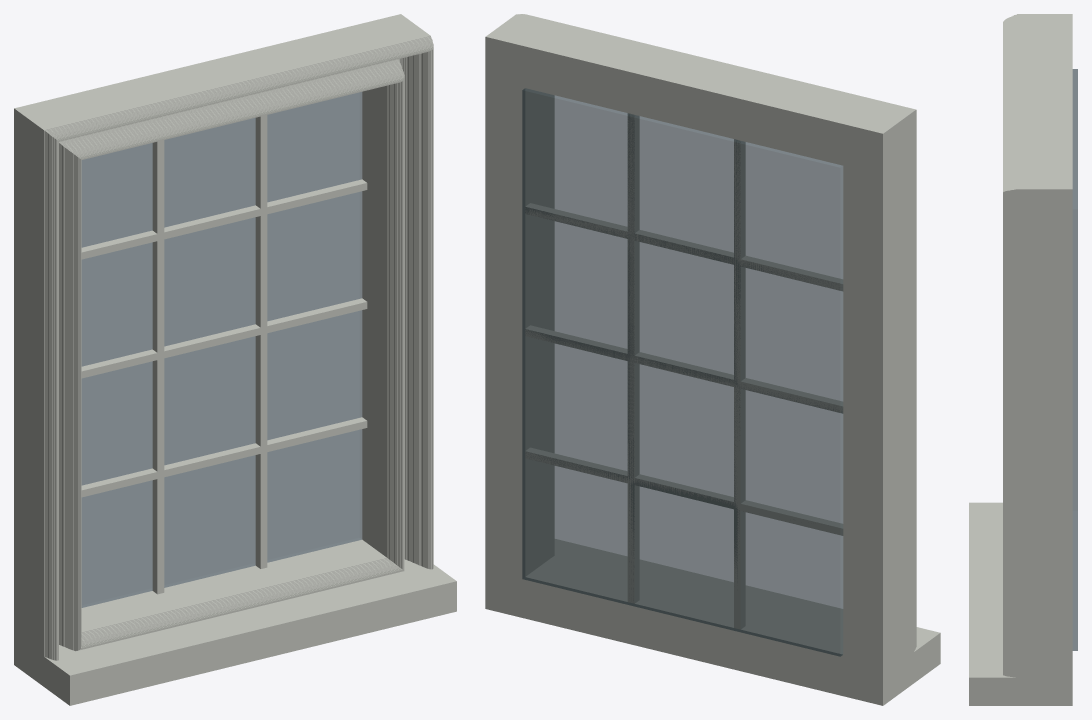
Rendered from barroco_rectangle.glb.
3 renders of one model, left to right at view 1: azimuth 30°, elevation 25°; view 2: azimuth 150°, elevation 25°; view 3: azimuth 270°, elevation 25°, orthographic. The views are drawn at different scales.
Parts seen in each view (by area): view 1: window_glass#0001, window_sill#0001, window_mullion#0001, window_reveal#0001, window_profile#0096, window_profile#0001, window_profile#0015, window_profile#0083, window_profile#0081, window_profile#0095, window_profile#0094, window_profile#0092 (+68 smaller); view 2: window_glass#0001, window_reveal#0001, window_mullion#0001, window_profile#0096, window_profile#0001, window_sill#0001, window_profile#0093, window_profile#0095, window_profile#0094, window_profile#0092, window_profile#0090, window_profile#0089; view 3: window_profile#0096, window_reveal#0001, window_sill#0001, window_glass#0001, window_profile#0095, window_profile#0094, window_profile#0093, window_profile#0092, window_profile#0090, window_profile#0091, window_profile#0089, window_profile#0088 (+6 smaller).
Part boxes in pixels (x1,y1,x2,y2): window_glass#0001: (81, 92, 362, 607); window_sill#0001: (22, 559, 456, 705); window_mullion#0001: (81, 115, 367, 594); window_reveal#0001: (14, 14, 411, 674); window_profile#0096: (25, 22, 430, 686); window_profile#0001: (81, 85, 387, 632); window_profile#0015: (81, 81, 402, 647); window_profile#0083: (56, 48, 433, 660); window_profile#0081: (57, 49, 432, 660); window_profile#0095: (44, 36, 431, 656); window_profile#0094: (45, 37, 431, 657); window_profile#0092: (48, 40, 432, 658); window_glass#0001: (522, 88, 843, 656); window_reveal#0001: (485, 27, 896, 705); window_mullion#0001: (525, 113, 843, 629); window_profile#0096: (499, 14, 913, 696); window_profile#0001: (537, 91, 842, 641); window_sill#0001: (555, 539, 940, 699); window_profile#0093: (520, 14, 915, 649); window_profile#0095: (517, 14, 914, 651); window_profile#0094: (519, 14, 914, 650); window_profile#0092: (521, 14, 915, 648); window_profile#0090: (523, 14, 915, 647); window_profile#0089: (524, 14, 916, 647); window_profile#0096: (1017, 14, 1051, 705); window_reveal#0001: (1049, 14, 1072, 705); window_sill#0001: (969, 502, 1057, 705); window_glass#0001: (1072, 69, 1077, 650); window_profile#0095: (1015, 14, 1016, 677); window_profile#0094: (1014, 15, 1015, 677); window_profile#0093: (1012, 15, 1013, 677); window_profile#0092: (1011, 16, 1012, 676); window_profile#0090: (1008, 17, 1009, 676); window_profile#0091: (1010, 17, 1011, 676); window_profile#0089: (1007, 18, 1008, 676); window_profile#0088: (1006, 18, 1007, 676).
Size of the model in its own units: 1.6 by 2.2 by 0.42.
